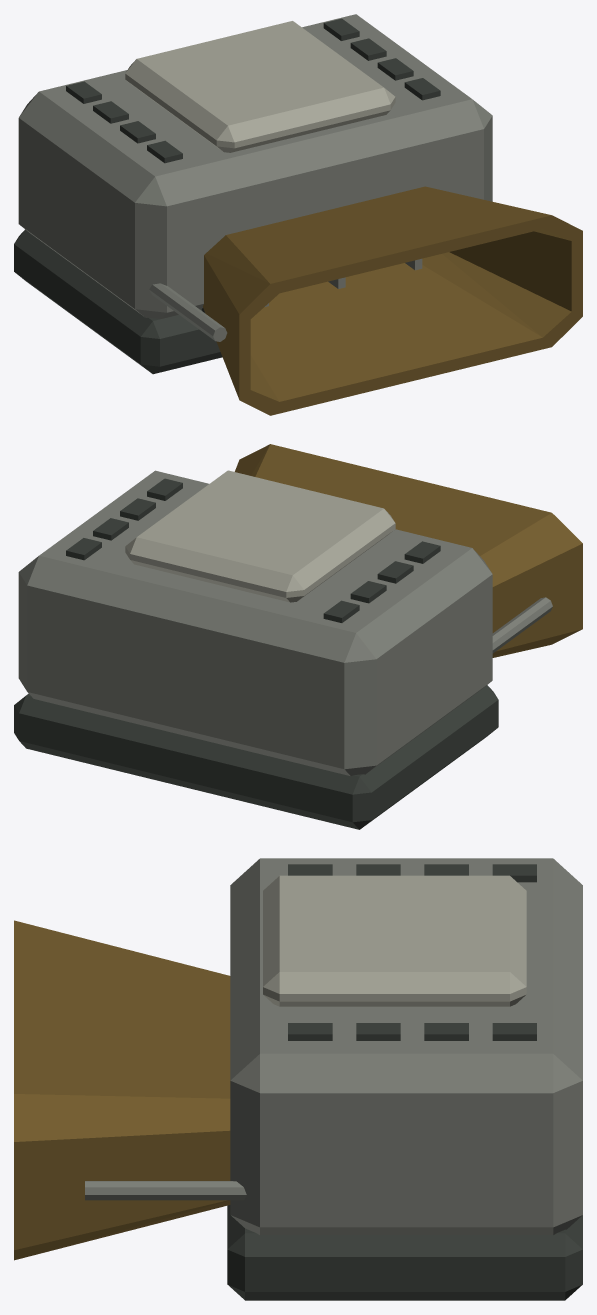
Rendered from large_thruster.obj.
3 views of the same model, one above another, from view 1: azimuth 30°, elevation 25°; view 2: azimuth 150°, elevation 25°; view 3: azimuth 270°, elevation 25° (orthographic). The views are drawn at different scales.
Visible parts, largest first — view 1: large_thruster; view 2: large_thruster; view 3: large_thruster.
Boxes of the visible parts, x1,y1,x2,y2 form: large_thruster: [14, 14, 582, 415]; large_thruster: [14, 444, 582, 829]; large_thruster: [14, 858, 582, 1300].
Size of the model in its own units: 1.76 by 1.02 by 1.92.
